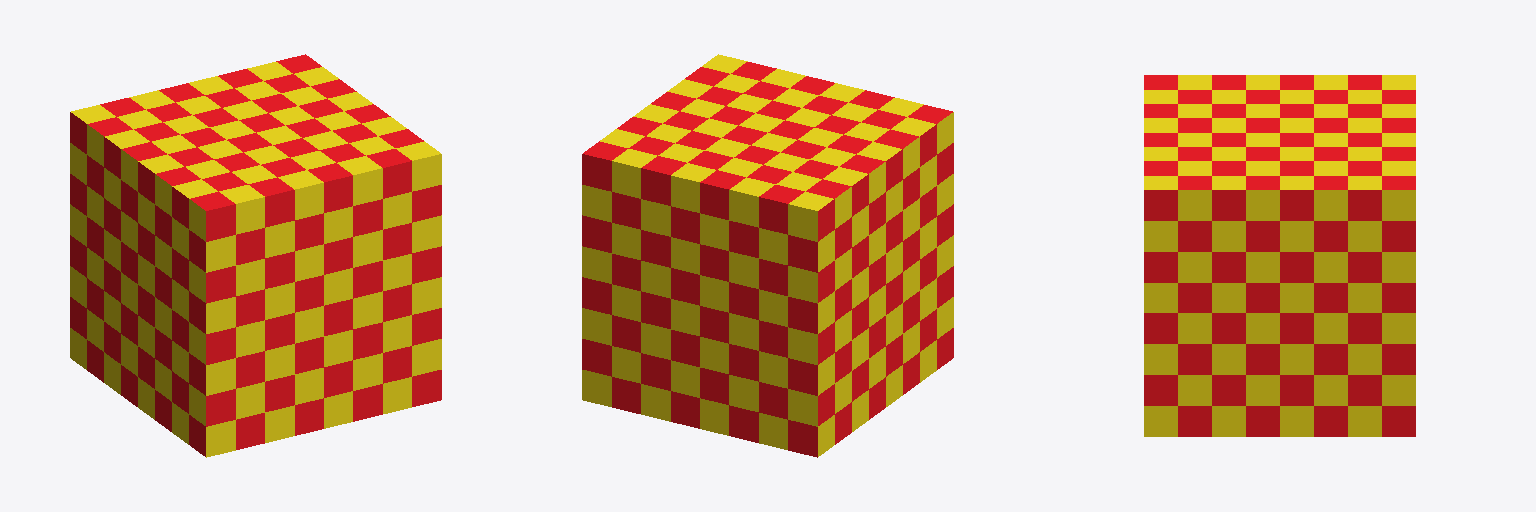
The picture shows the model from 3 angles: view 1: azimuth 30°, elevation 25°; view 2: azimuth 150°, elevation 25°; view 3: azimuth 270°, elevation 25°; orthographic projection.
Visible parts, largest first — view 1: Cube_Cube.001; view 2: Cube_Cube.001; view 3: Cube_Cube.001.
Part boxes in pixels (left/top/right/bottom): Cube_Cube.001: left=70, top=54, right=441, bottom=457; Cube_Cube.001: left=582, top=54, right=953, bottom=457; Cube_Cube.001: left=1144, top=75, right=1415, bottom=436.
Bounding box in the file's own units: 2 × 2 × 2.
1 materials, 1 textured.